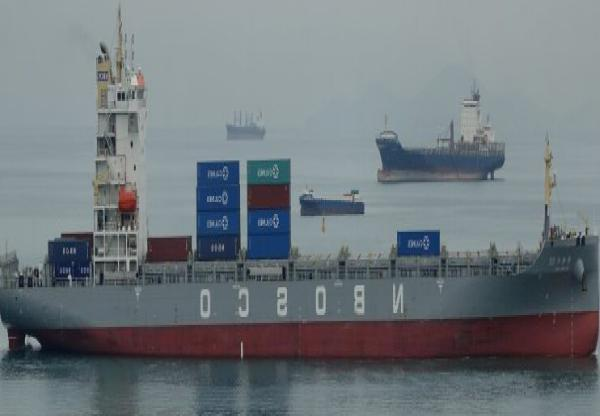Container Ship: (1, 2, 598, 361), (374, 78, 505, 182), (298, 187, 364, 216)
